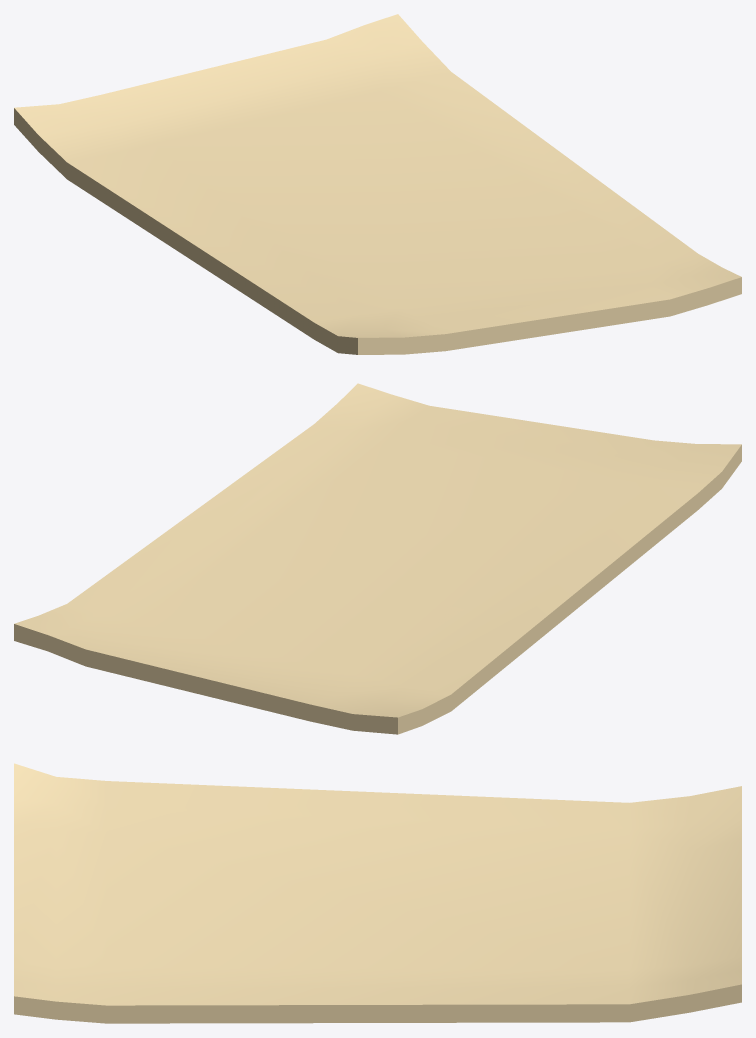
File: hoja de nota.FBX
The picture shows the model from 3 angles, top to bottom: view 1: azimuth 30°, elevation 25°; view 2: azimuth 150°, elevation 25°; view 3: azimuth 270°, elevation 25°; orthographic projection. The views are drawn at different scales.
Visible parts, largest first — view 1: Box001; view 2: Box001; view 3: Box001.
Boxes of the visible parts, x1=… form: Box001: x1=14, y1=14, x2=741, y2=354; Box001: x1=14, y1=383, x2=741, y2=734; Box001: x1=14, y1=763, x2=741, y2=1023.
Size of the model in its own units: 25.56 by 3.79 by 39.65.
